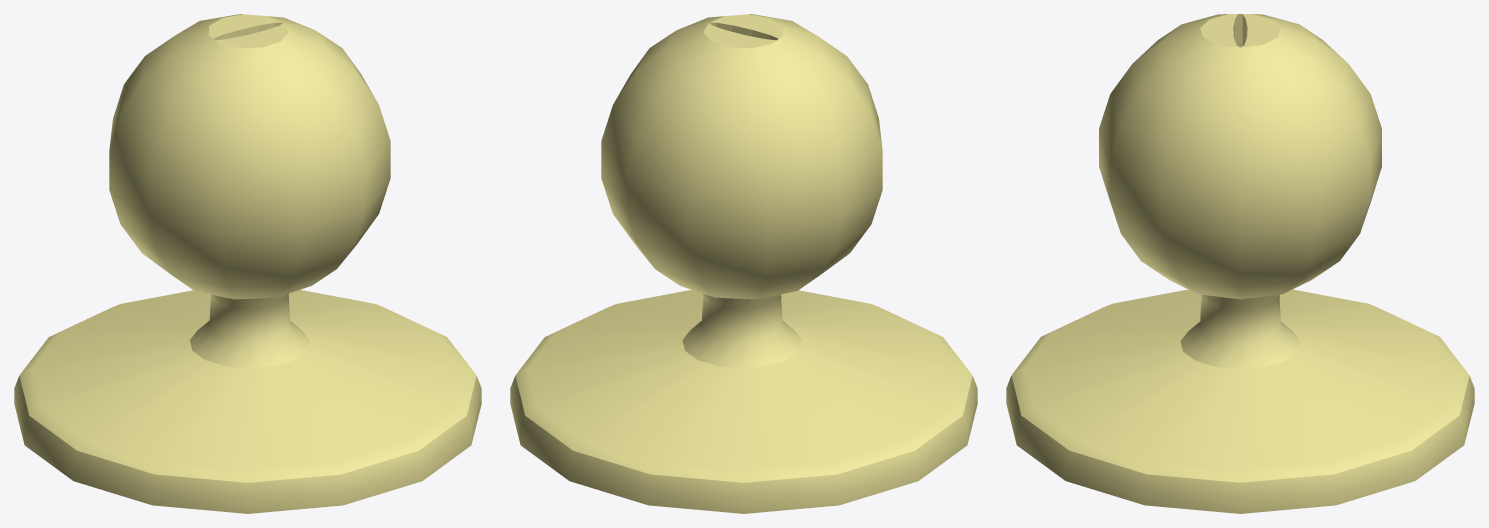
The model's file is door knob.fbx.
3 views of the same model, side by side, from view 1: azimuth 30°, elevation 25°; view 2: azimuth 150°, elevation 25°; view 3: azimuth 270°, elevation 25° (orthographic).
Parts seen in each view (by area): view 1: door_knob1; view 2: door_knob1; view 3: door_knob1.
Part boxes in pixels (left/top/right/bottom): door_knob1: left=14, top=14, right=481, bottom=513; door_knob1: left=510, top=14, right=977, bottom=513; door_knob1: left=1006, top=14, right=1474, bottom=513.
Size of the model in its own units: 1.98 by 1.8 by 1.99.
1 material, 1 textured.
